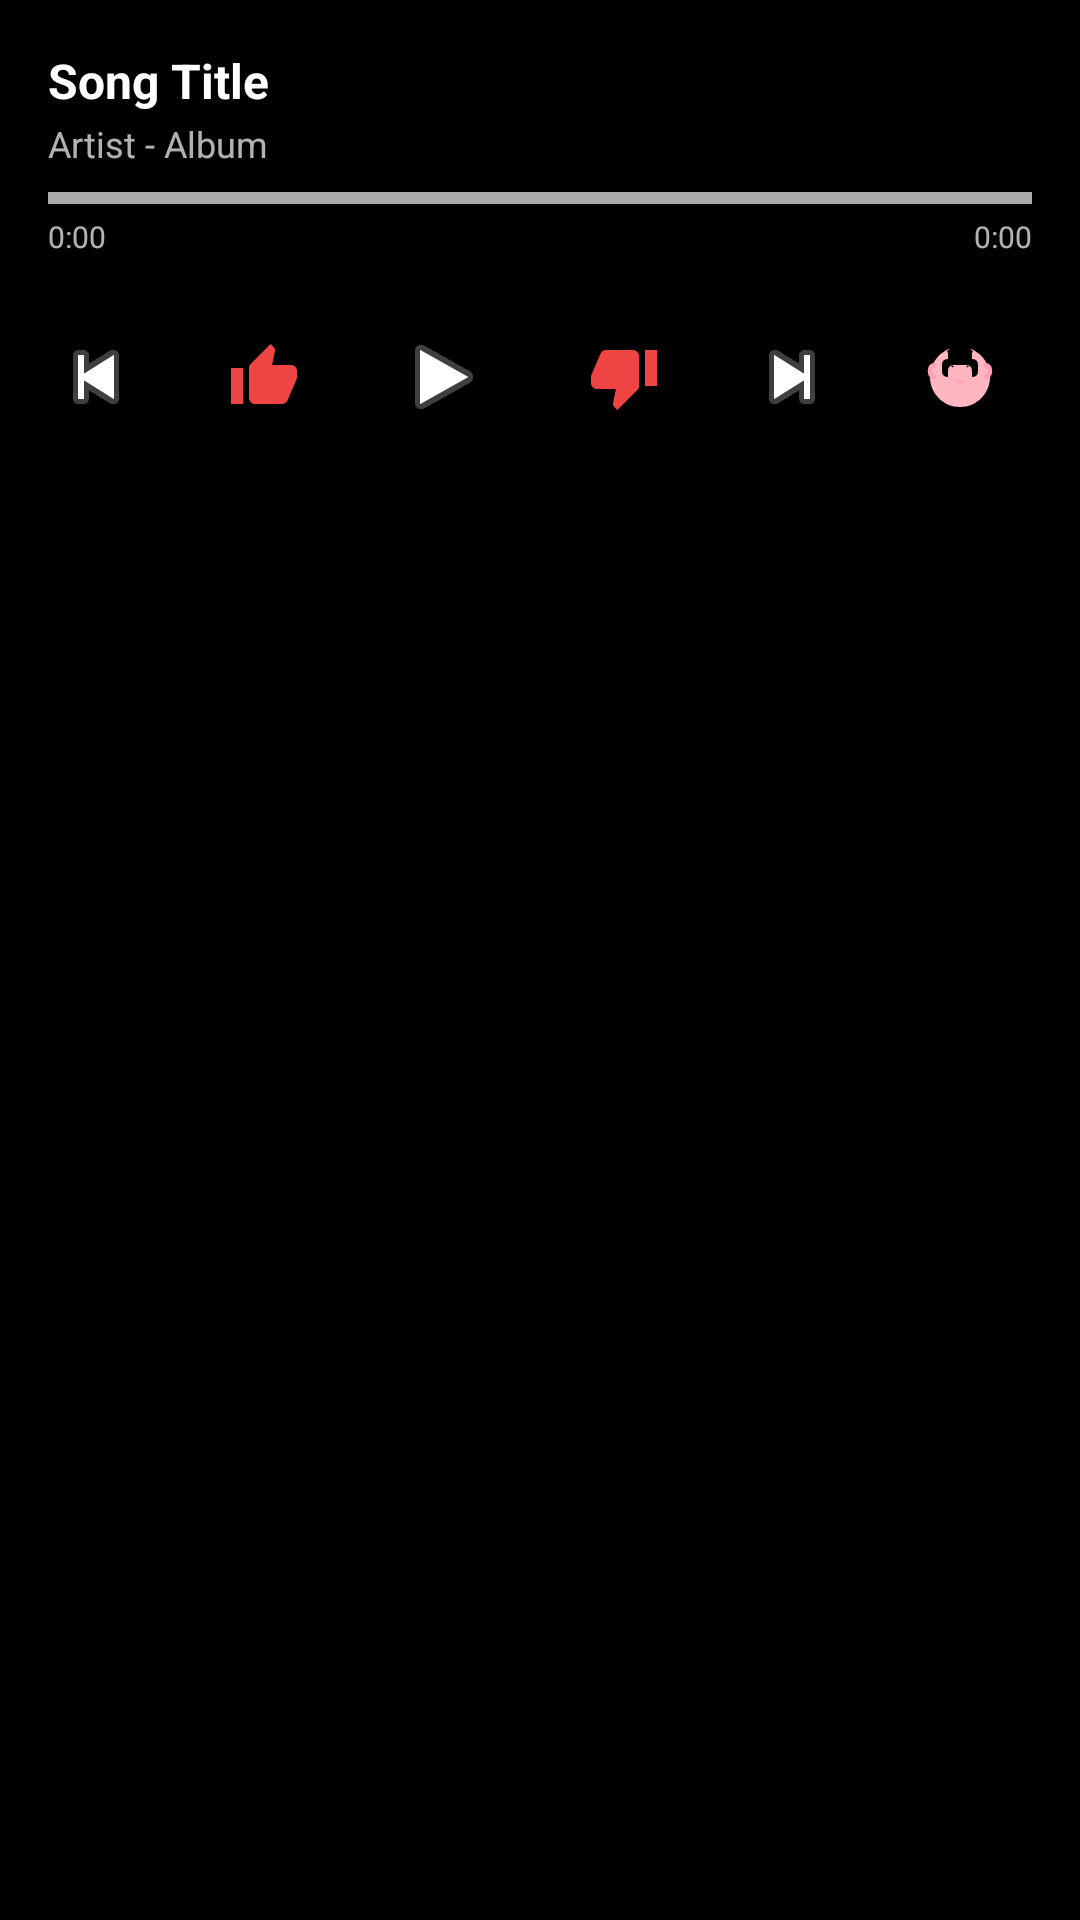

Screen size 1080 x 1920. Icon name, then its center in pixels as point (x, y):
Dislike: point (624, 380)
Like: point (264, 374)
Next: point (792, 377)
Play/Pause: point (444, 377)
